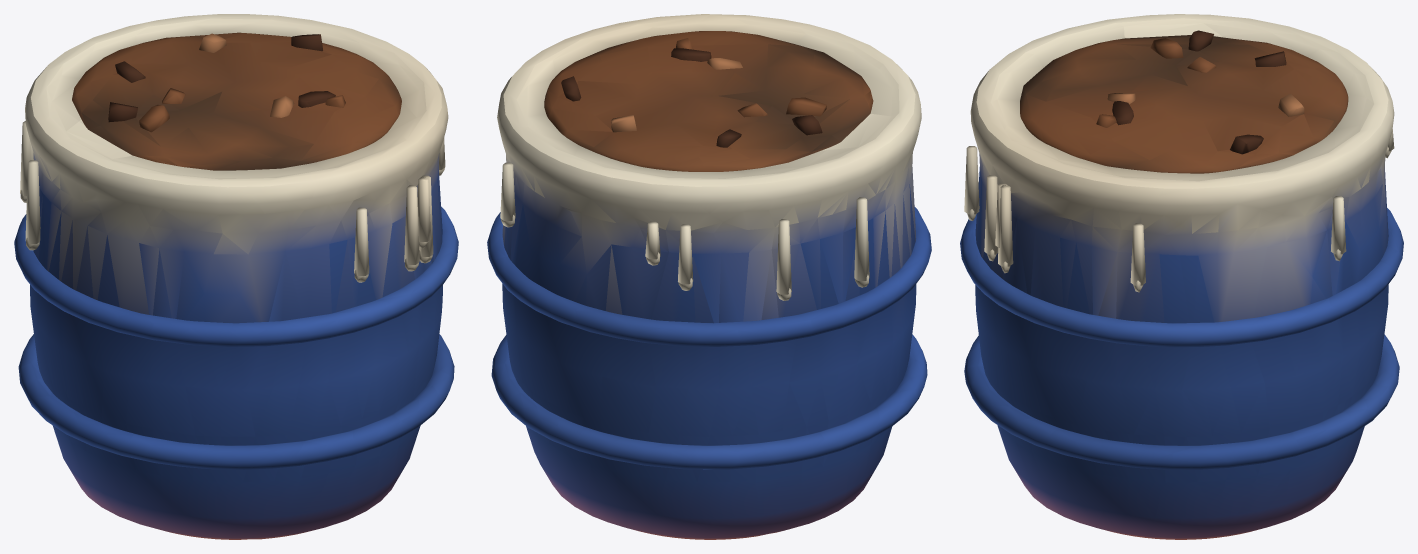
The model's file is canopy_pot_glazed_b_lod1.glb.
The picture shows the model from 3 angles, left to right: view 1: azimuth 30°, elevation 25°; view 2: azimuth 150°, elevation 25°; view 3: azimuth 270°, elevation 25°; orthographic projection.
Parts seen in each view (by area): view 1: canopy_pot_glazed_b.001; view 2: canopy_pot_glazed_b.001; view 3: canopy_pot_glazed_b.001.
Boxes of the visible parts, x1,y1,x2,y2 form: canopy_pot_glazed_b.001: (14,14,458,539); canopy_pot_glazed_b.001: (487,14,931,539); canopy_pot_glazed_b.001: (960,14,1403,539).
Bounding box in the file's own units: 10.35 × 10.41 × 10.35.
